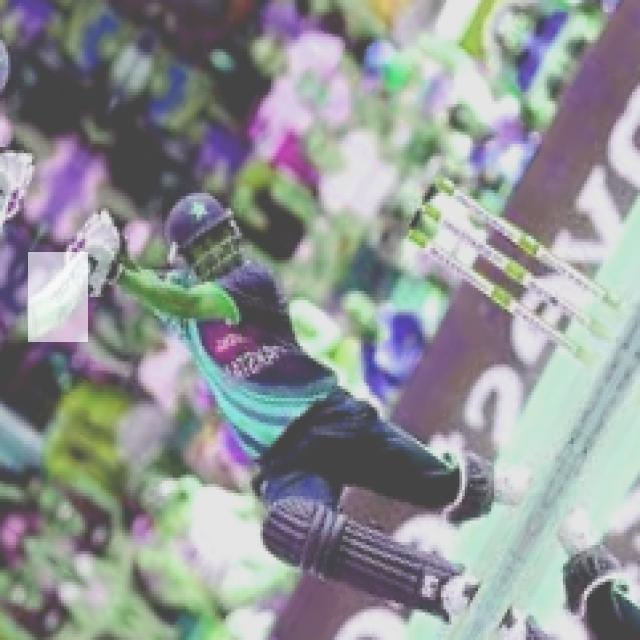bat: (27, 251, 90, 343)
toe: (26, 303, 42, 339)
